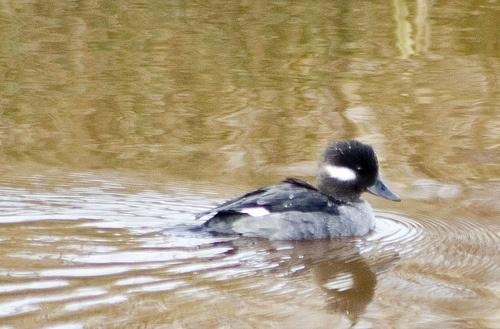bird: (190, 140, 405, 243)
